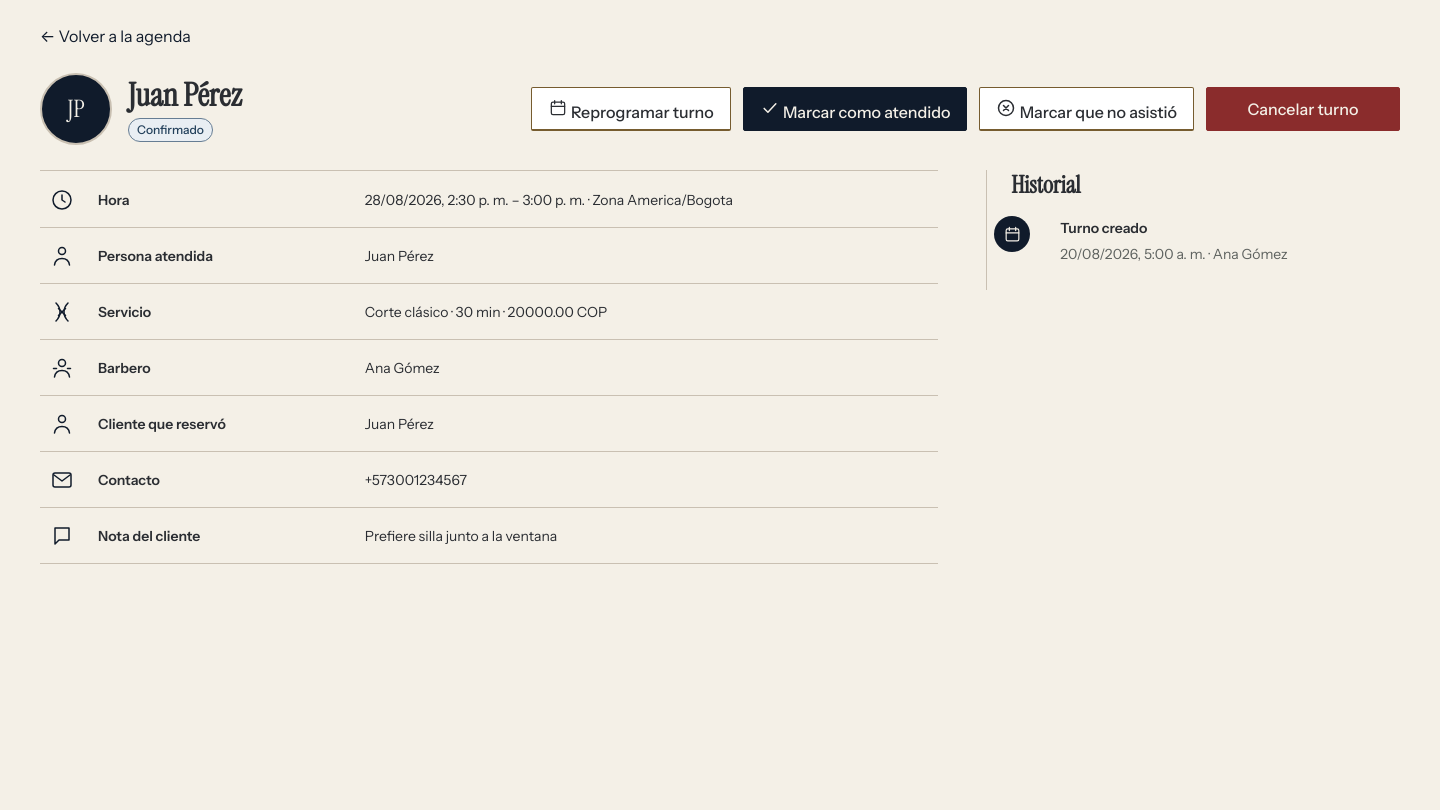
Scenario: AppointmentDetailPage › on a version conflict, offers a reload that refetches the real detail
Click the button "Reprogramar turno".
click(631, 109)  # box [531,87,731,131]
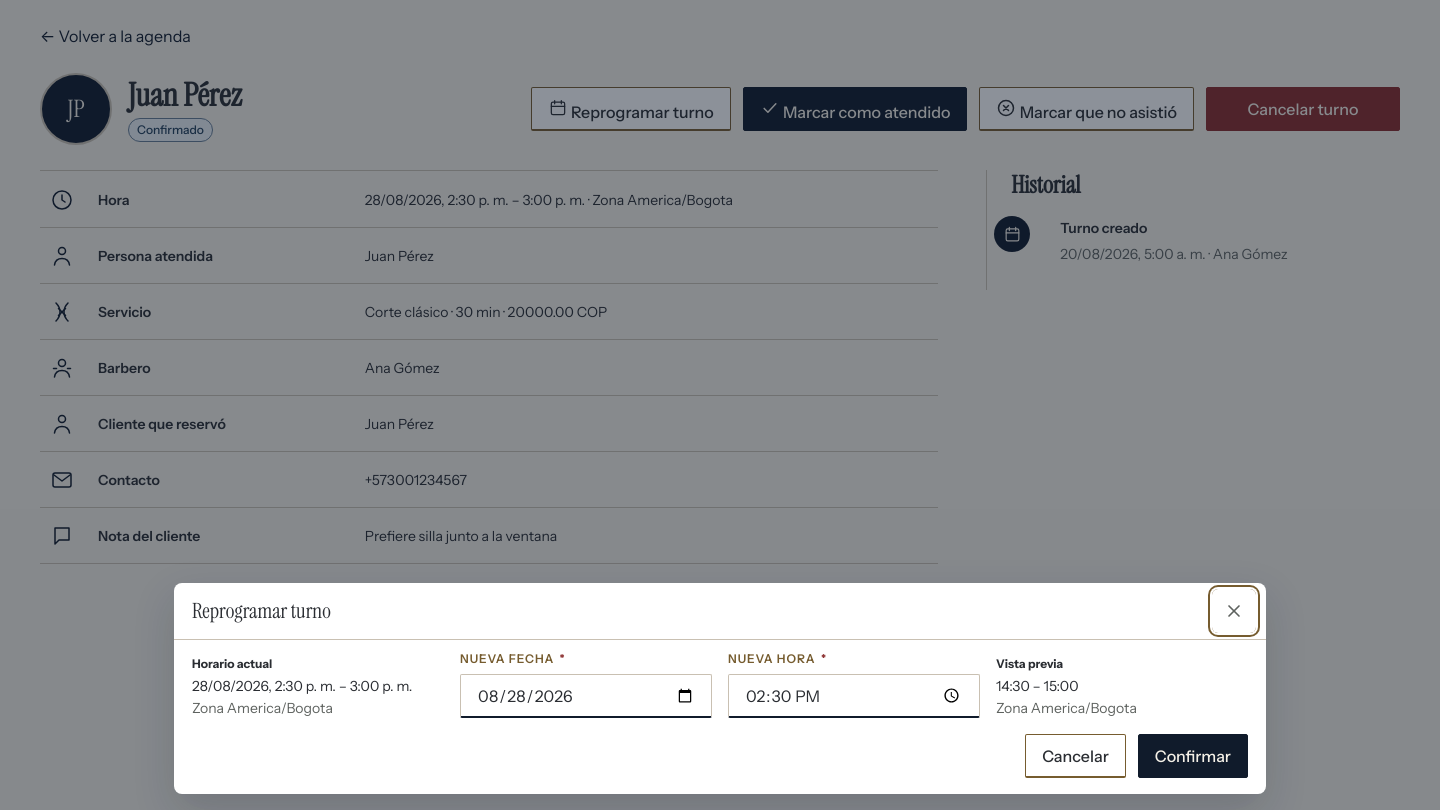
Submit the form, box [192,652,1248,778]
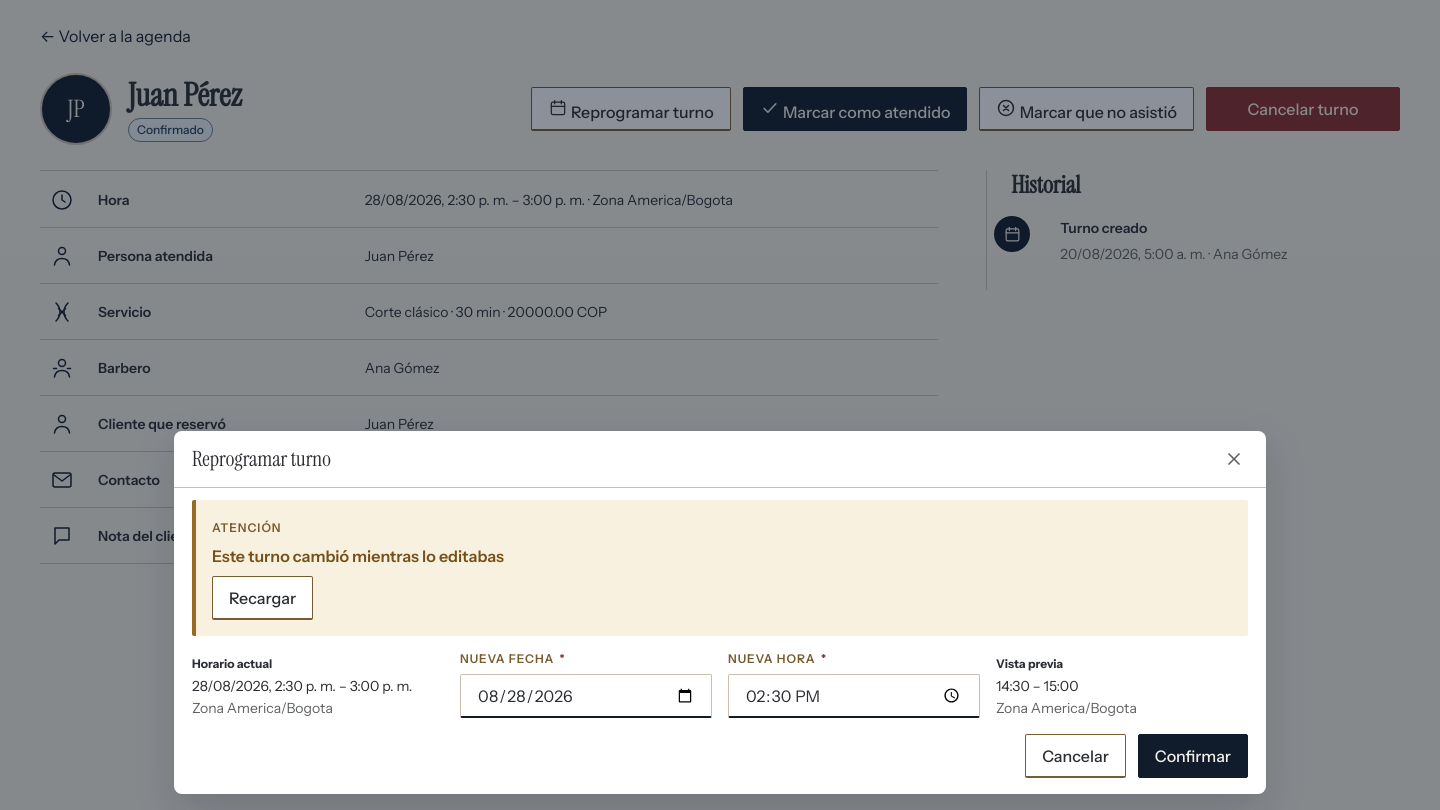
Check: the text "cambió mientras lo editabas" is shown, box [212,546,504,566]
Check: the button "Recargar" is shown
Click the button "Recargar".
click(263, 598)  # box [212,576,313,620]
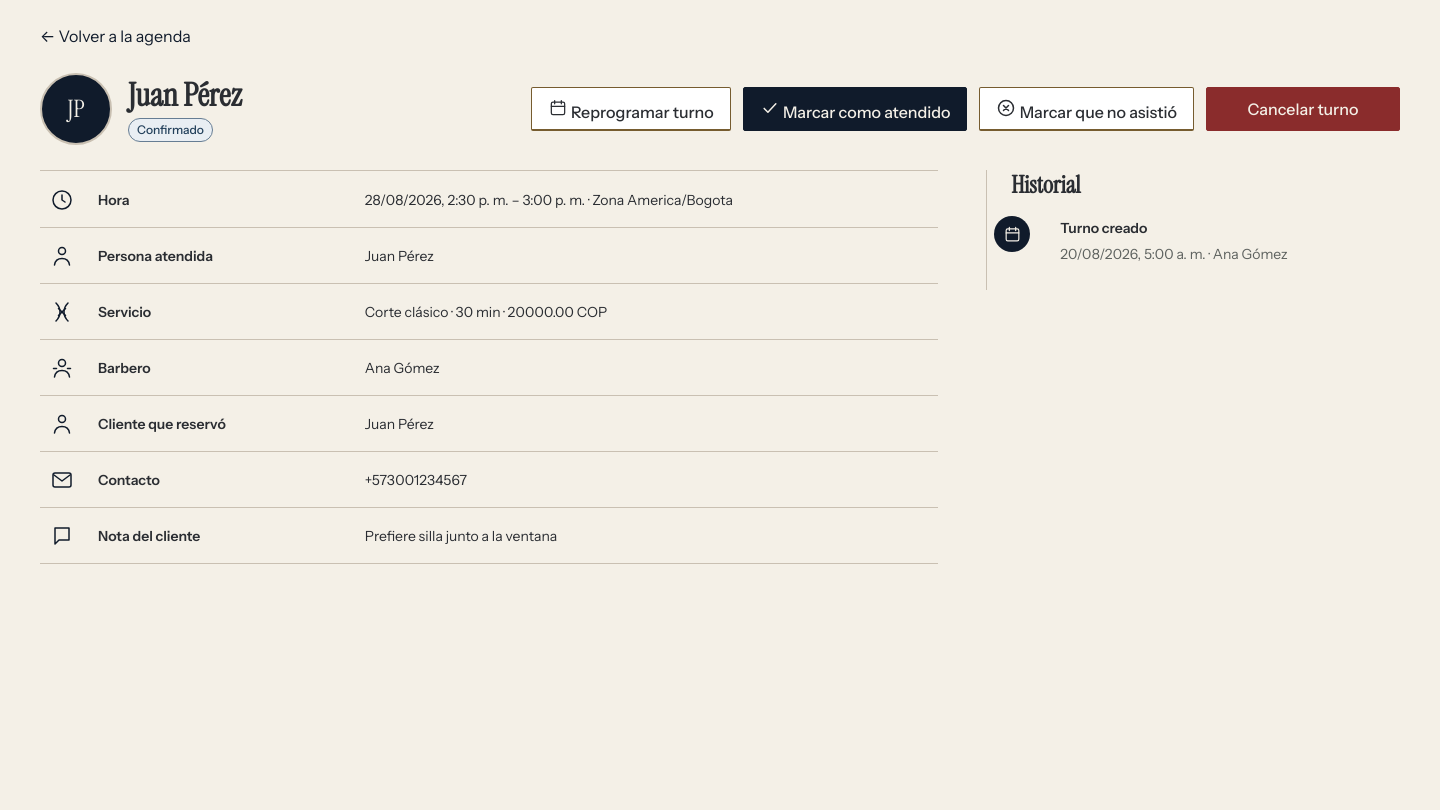
Check: the dialog with class "base-dialog--open" is gone
